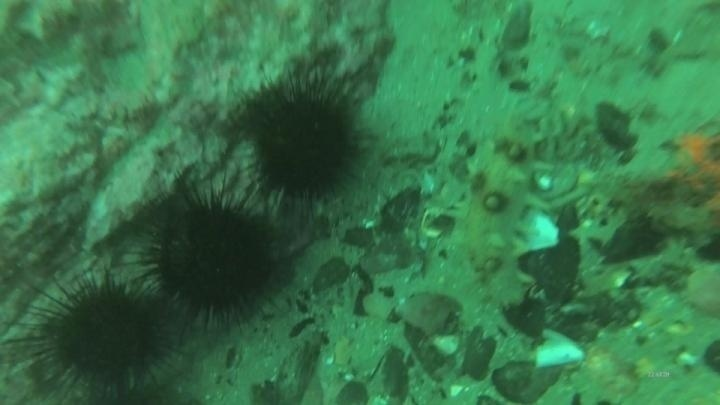echinus: (133, 180, 292, 333), (16, 268, 184, 401), (230, 66, 372, 212)
holothurian: (455, 113, 549, 310)
